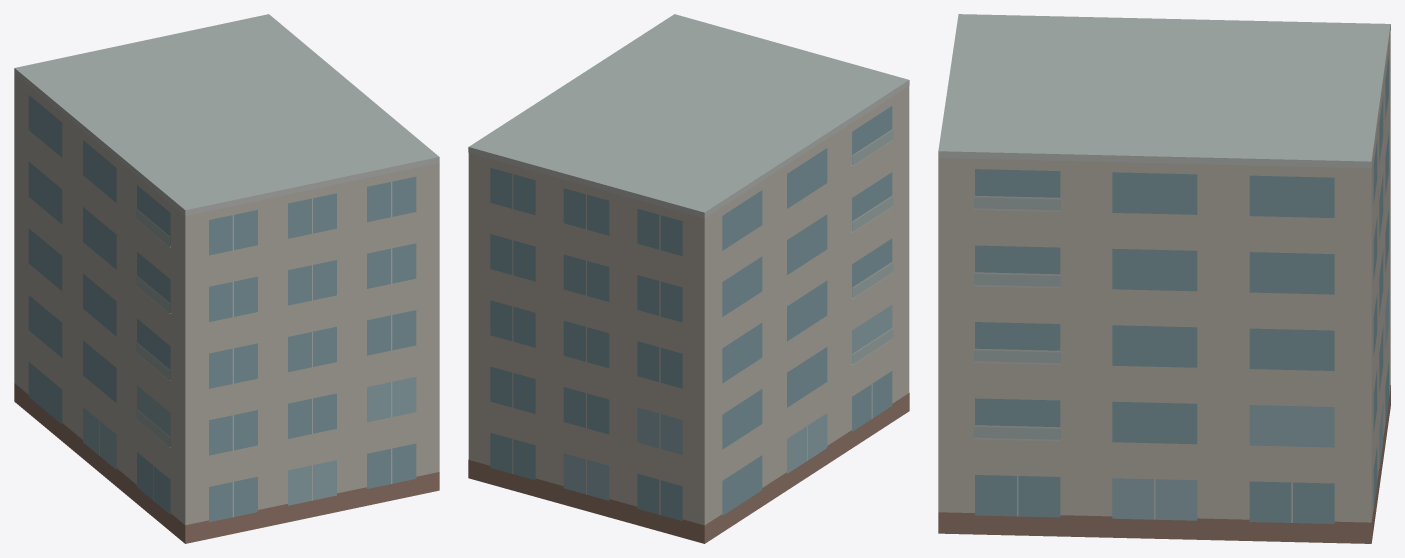
File: survey-upis-32548066.glb
3 views of the same model, side by side, from view 1: azimuth 30°, elevation 25°; view 2: azimuth 150°, elevation 25°; view 3: azimuth 270°, elevation 25° (orthographic). The views are drawn at different scales.
Visible parts, largest first — view 1: survey-upis-32548066.tmp; view 2: survey-upis-32548066.tmp; view 3: survey-upis-32548066.tmp.
Boxes of the visible parts, <box> form: survey-upis-32548066.tmp: <box>14,14,439,543</box>; survey-upis-32548066.tmp: <box>468,14,909,543</box>; survey-upis-32548066.tmp: <box>938,14,1390,543</box>.
Bounding box in the file's own units: 11.43 × 13.8 × 14.81.
